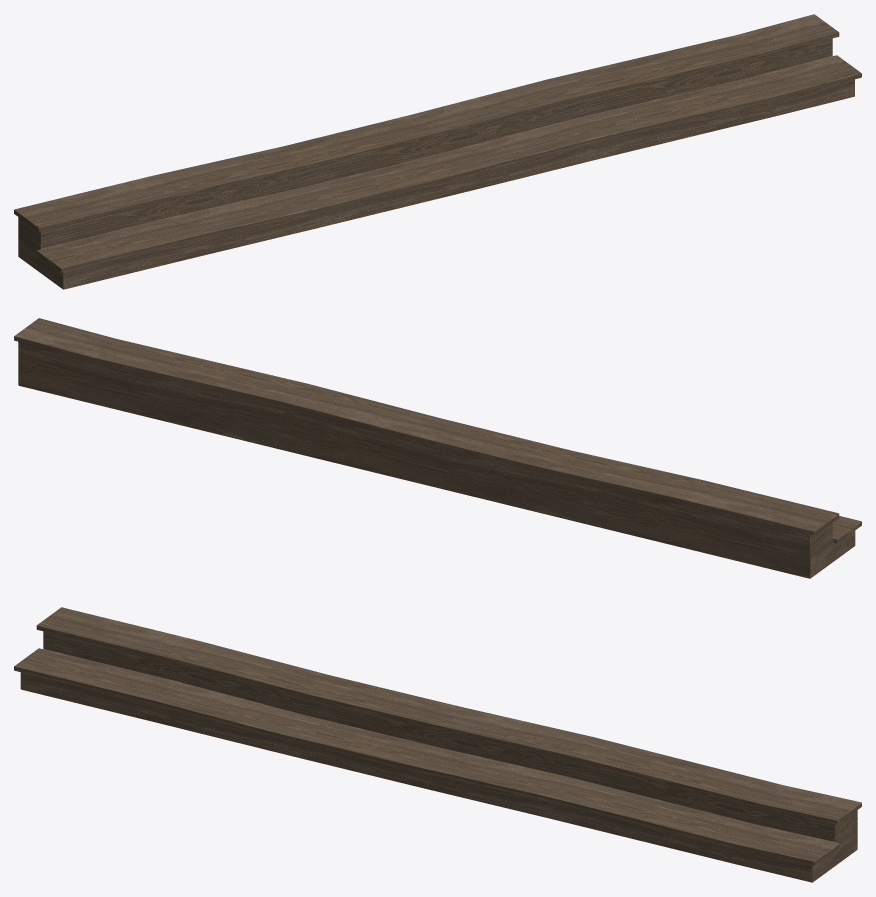
The model's file is SM_Stairs_Small.FBX.
The picture shows the model from 3 angles, top to bottom: view 1: azimuth 30°, elevation 25°; view 2: azimuth 150°, elevation 25°; view 3: azimuth 330°, elevation 25°; orthographic projection.
Parts seen in each view (by area): view 1: SM_Stairs_Small_LOD0; view 2: SM_Stairs_Small_LOD0; view 3: SM_Stairs_Small_LOD0.
Part boxes in pixels (x1,y1,x2,y2): SM_Stairs_Small_LOD0: (14, 14, 861, 289); SM_Stairs_Small_LOD0: (14, 318, 861, 578); SM_Stairs_Small_LOD0: (14, 607, 861, 882).
Size of what is drawn, in the model's own units: 607 by 62.39 by 35.67.
